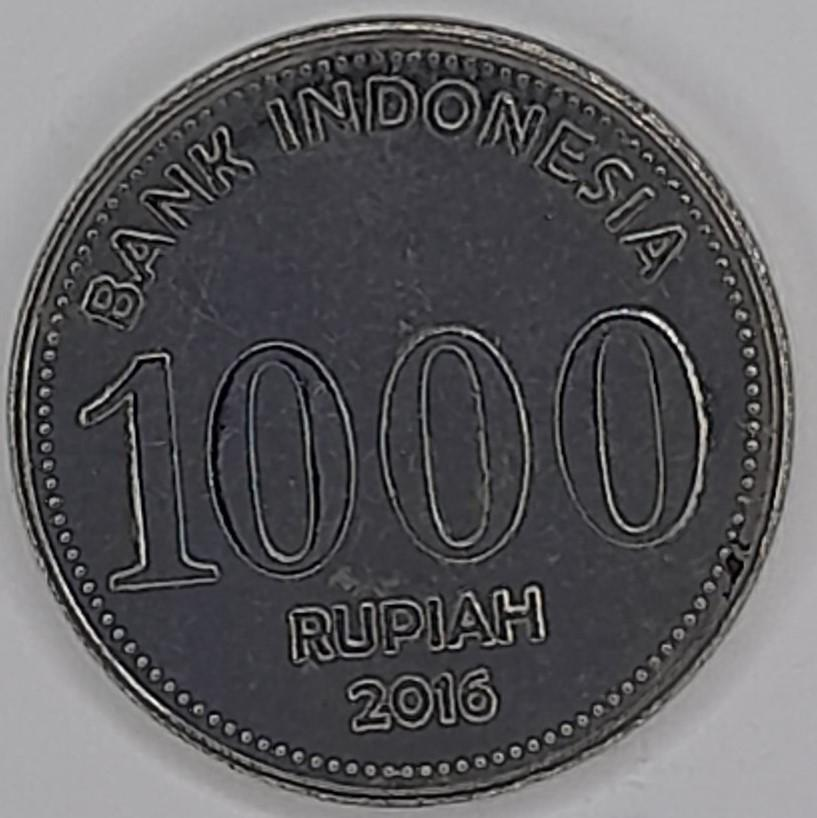coin_1000_e2016: (14, 16, 806, 818)
